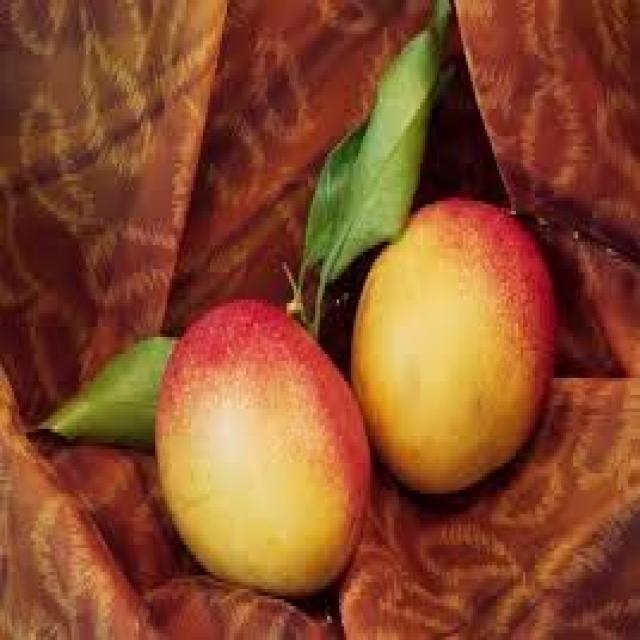mango: (153, 300, 373, 603)
